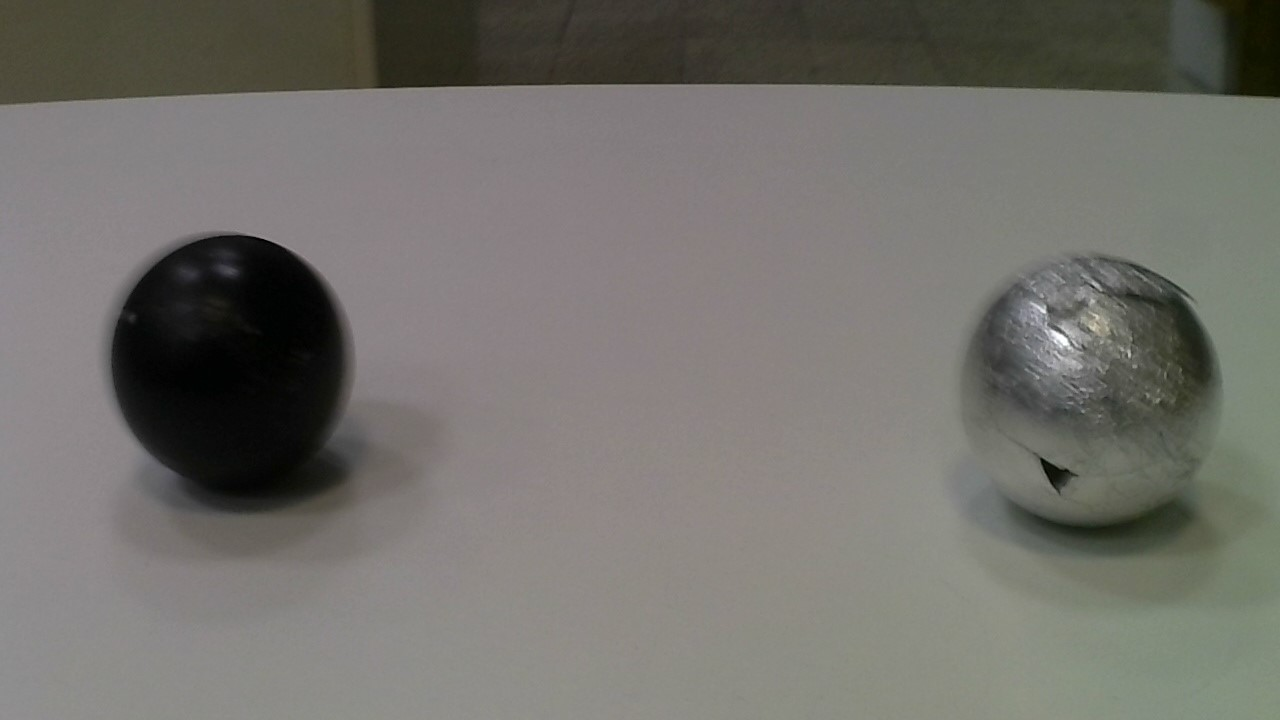black_ball: (101, 230, 362, 499)
silver_ball: (945, 249, 1232, 542)
